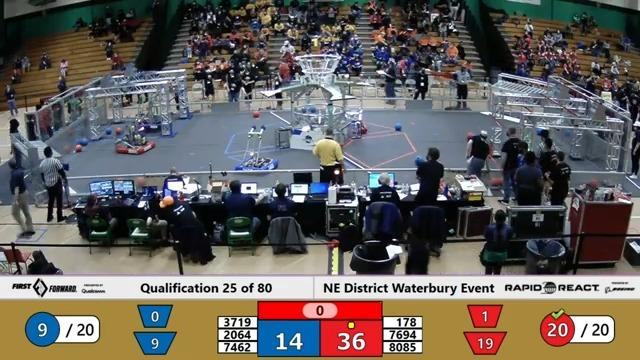robot: (230, 125, 280, 181), (112, 121, 158, 162), (131, 93, 172, 133), (333, 96, 370, 139)
